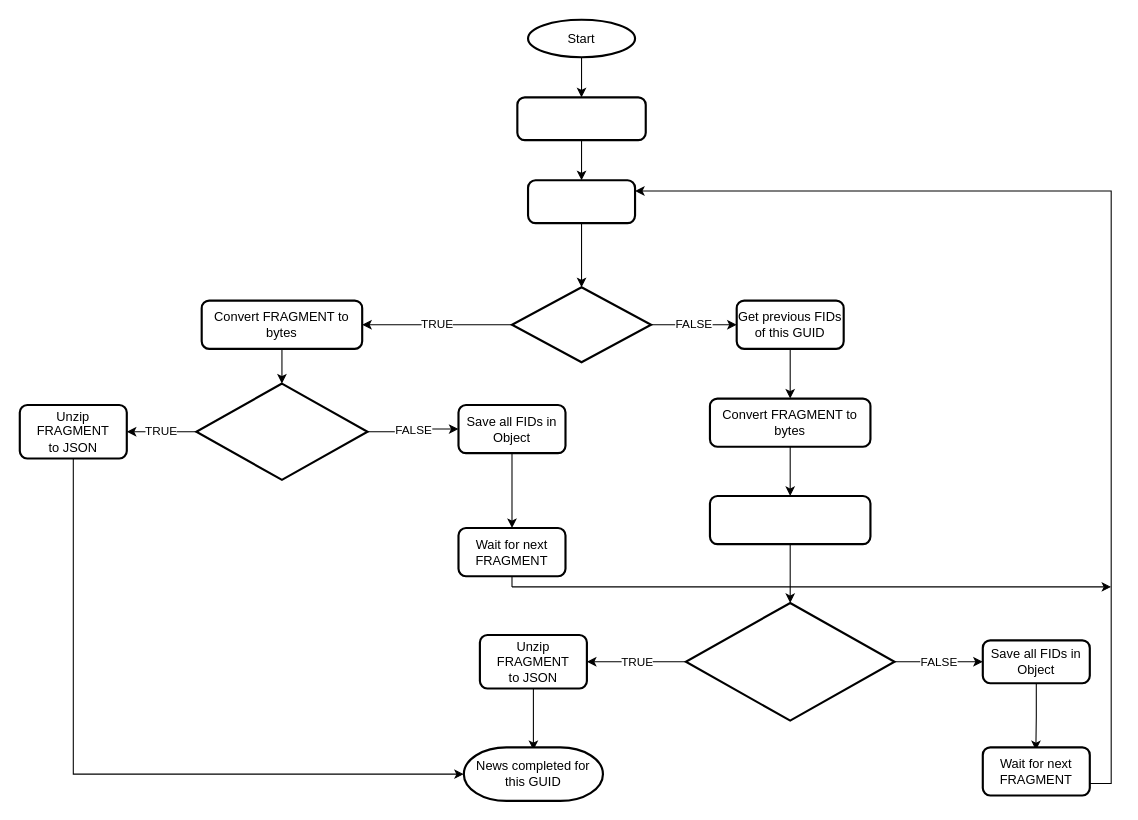
The diagram is 1138 pixels wide and 820 high, and some of its shapes have lost their labels. Here are the shapes that lost their labels. From the top down, the box of each, then its label:
(516, 96, 646, 141): Receive Refresh Message
(526, 179, 636, 224): Receive Update Message
(510, 286, 652, 363): FRAG_NUM = 1
(195, 382, 368, 480): FRAGMENT length = TOT_SIZE
(708, 494, 871, 545): Add FRAGMENT to previous FRAGMENT(s)
(684, 601, 895, 721): Total FRAMGNET length = TOT_SIZE
